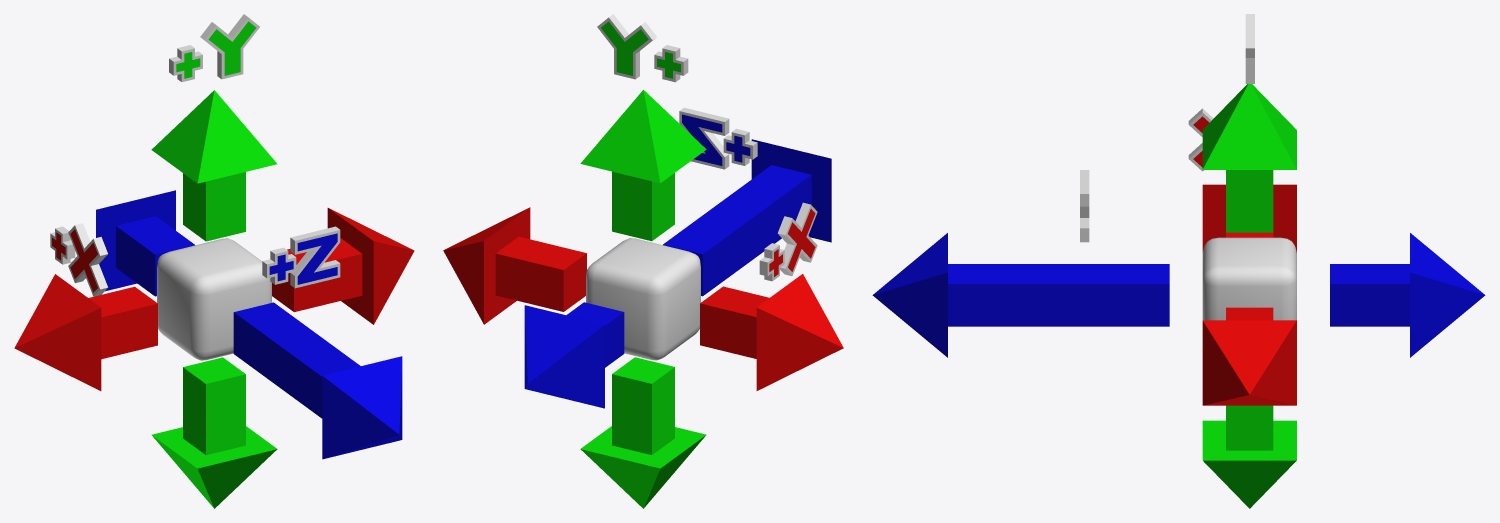
File: TransformPrimitive.fbx
3 views of the same model, side by side, from view 1: azimuth 30°, elevation 25°; view 2: azimuth 150°, elevation 25°; view 3: azimuth 270°, elevation 25° (orthographic). The views are drawn at different scales.
Visible parts, largest first — view 1: TransformPrimitive_Mesh; view 2: TransformPrimitive_Mesh; view 3: TransformPrimitive_Mesh.
Boxes of the visible parts, box(x1,y1,x2,y2) form: TransformPrimitive_Mesh: box(14, 14, 414, 508); TransformPrimitive_Mesh: box(443, 14, 843, 508); TransformPrimitive_Mesh: box(872, 14, 1485, 508).
Size of the model in its own units: 50 by 57.9 by 65.
